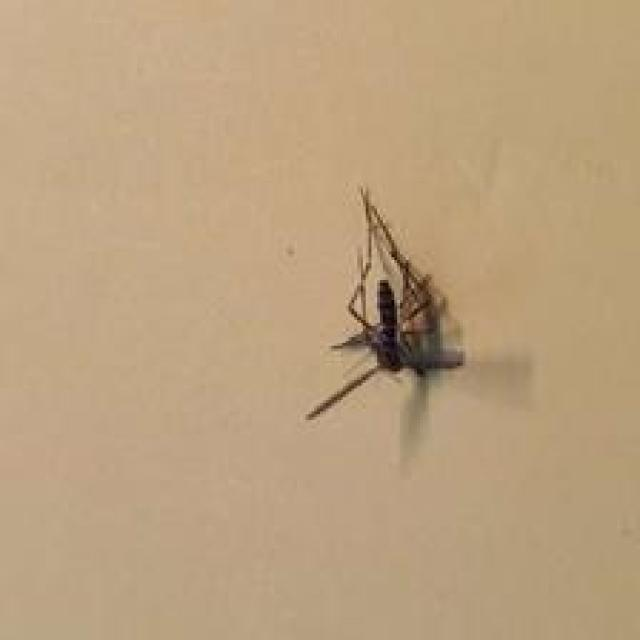Aedes albopictus: (303, 181, 468, 470)
